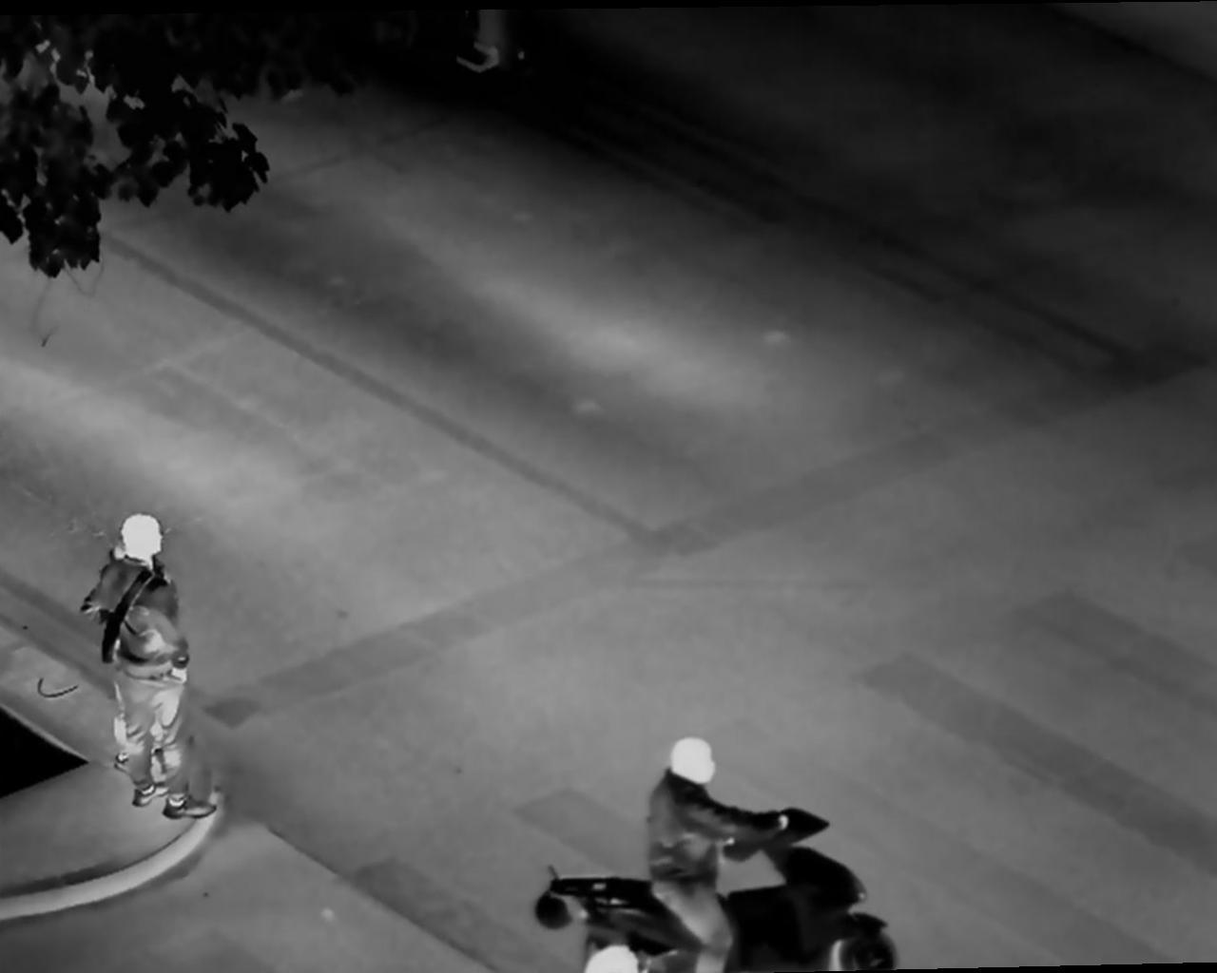person: (85, 510, 212, 836), (650, 726, 748, 973)
